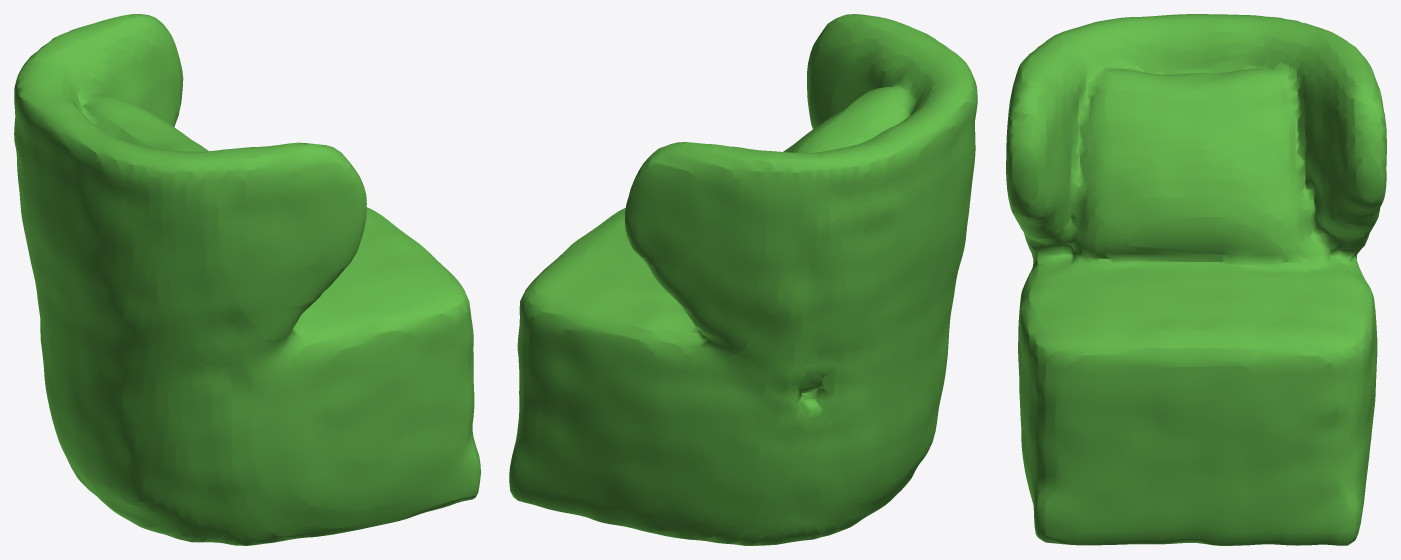
The model's file is chair_4_2.obj.
3 views of the same model, side by side, from view 1: azimuth 30°, elevation 25°; view 2: azimuth 150°, elevation 25°; view 3: azimuth 270°, elevation 25° (orthographic). The views are drawn at different scales.
Size of the model in its own units: 0.7274 by 0.795 by 0.7117.
